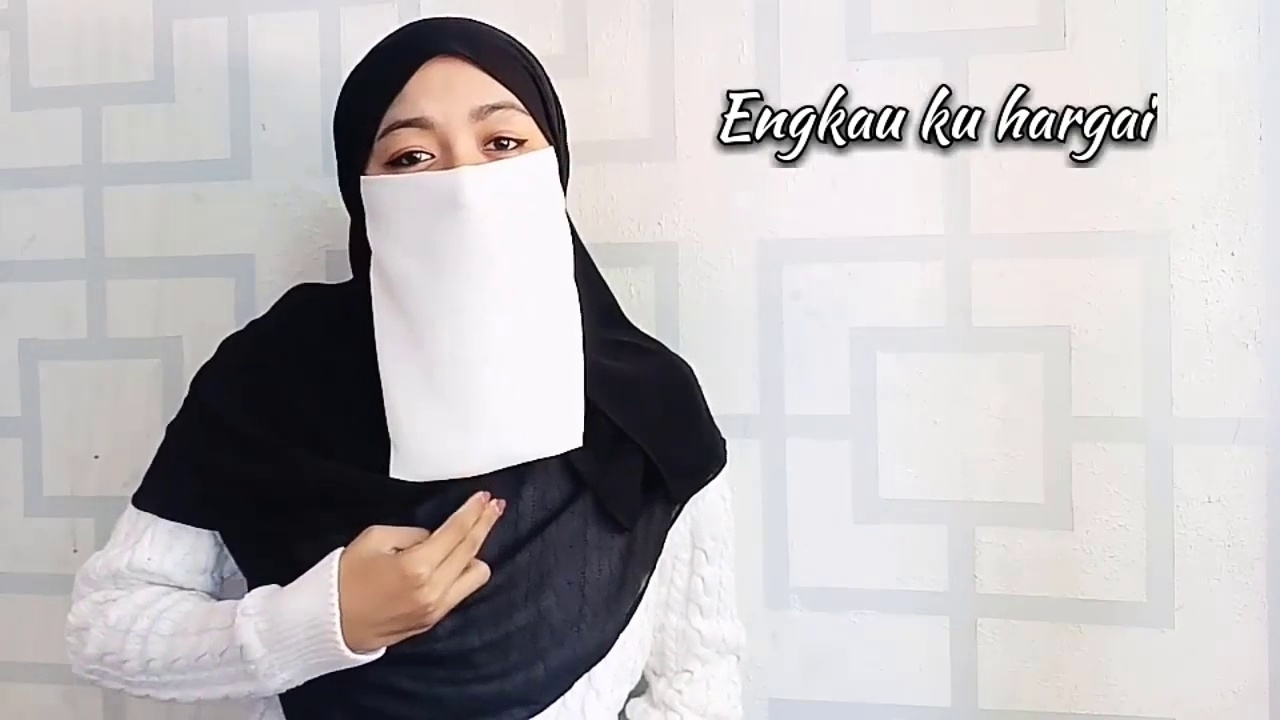AKU: (221, 338, 664, 717)
